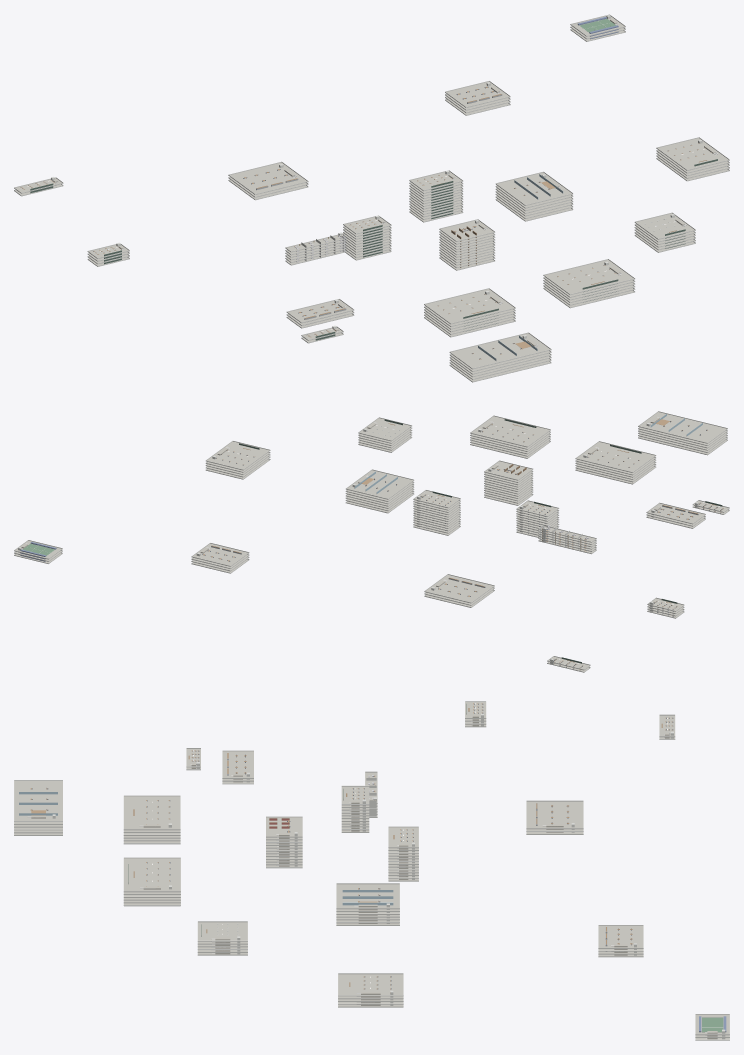
File: campus_interiors.glb
3 renders of one model, top to bottom at view 1: azimuth 30°, elevation 25°; view 2: azimuth 150°, elevation 25°; view 3: azimuth 270°, elevation 25°, orthographic. The views are drawn at different scales.
Visible parts, largest first — view 1: IN_p00_L5_all, IN_p01_L5_all, IN_p02_L5_all, IN_p13_L6_all, IN_p17_L2_all, IN_p12_L4_all, IN_p19_L3_all, IN_pZX_L5_all, IN_p04_L2_all, IN_p07_L11_all, IN_p30_L2_all, IN_pDX_A_L12_all; view 2: IN_p00_L5_all, IN_p01_L5_all, IN_p02_L5_all, IN_p13_L6_all, IN_p17_L2_all, IN_p12_L4_all, IN_p19_L3_all, IN_pZX_L5_all, IN_p04_L2_all, IN_p07_L11_all, IN_p30_L2_all, IN_pDX_A_L12_all; view 3: IN_p01_L5_all, IN_p02_L5_all, IN_p00_L5_all, IN_p17_L2_all, IN_p13_L6_all, IN_p12_L4_all, IN_p19_L3_all, IN_pZX_L5_all, IN_p04_L2_all, IN_p07_L11_all, IN_p30_L2_all, IN_pDX_A_L12_all (+1 smaller).
Part boxes in pixels (box(x1,y1,x2,y2)): IN_p00_L5_all: box(449, 332, 551, 369); IN_p01_L5_all: box(543, 259, 635, 295); IN_p02_L5_all: box(424, 288, 515, 324); IN_p13_L6_all: box(495, 171, 573, 205); IN_p17_L2_all: box(228, 161, 308, 194); IN_p12_L4_all: box(656, 137, 729, 170); IN_p19_L3_all: box(445, 80, 510, 107); IN_pZX_L5_all: box(634, 212, 695, 239); IN_p04_L2_all: box(286, 298, 354, 323); IN_p07_L11_all: box(439, 219, 495, 241); IN_p30_L2_all: box(570, 14, 625, 36); IN_pDX_A_L12_all: box(409, 170, 463, 191); IN_p00_L5_all: box(638, 411, 727, 443); IN_p01_L5_all: box(470, 415, 550, 447); IN_p02_L5_all: box(575, 441, 656, 472); IN_p13_L6_all: box(346, 469, 414, 499); IN_p17_L2_all: box(424, 574, 494, 603); IN_p12_L4_all: box(205, 440, 270, 470); IN_p19_L3_all: box(191, 542, 249, 566); IN_pZX_L5_all: box(358, 417, 412, 441); IN_p04_L2_all: box(646, 502, 705, 524); IN_p07_L11_all: box(484, 460, 533, 480); IN_p30_L2_all: box(14, 540, 62, 559); IN_pDX_A_L12_all: box(413, 490, 460, 508); IN_p01_L5_all: box(123, 857, 180, 892); IN_p02_L5_all: box(123, 795, 180, 830); IN_p00_L5_all: box(14, 780, 62, 821); IN_p17_L2_all: box(526, 800, 583, 829); IN_p13_L6_all: box(336, 883, 399, 909); IN_p12_L4_all: box(338, 973, 403, 996); IN_p19_L3_all: box(598, 925, 643, 948); IN_pZX_L5_all: box(197, 921, 247, 941); IN_p04_L2_all: box(222, 750, 253, 778); IN_p07_L11_all: box(266, 816, 302, 837); IN_p30_L2_all: box(695, 1014, 729, 1035); IN_pDX_A_L12_all: box(388, 826, 418, 848).
Size of the model in its own units: 1020 by 51.95 by 934.
